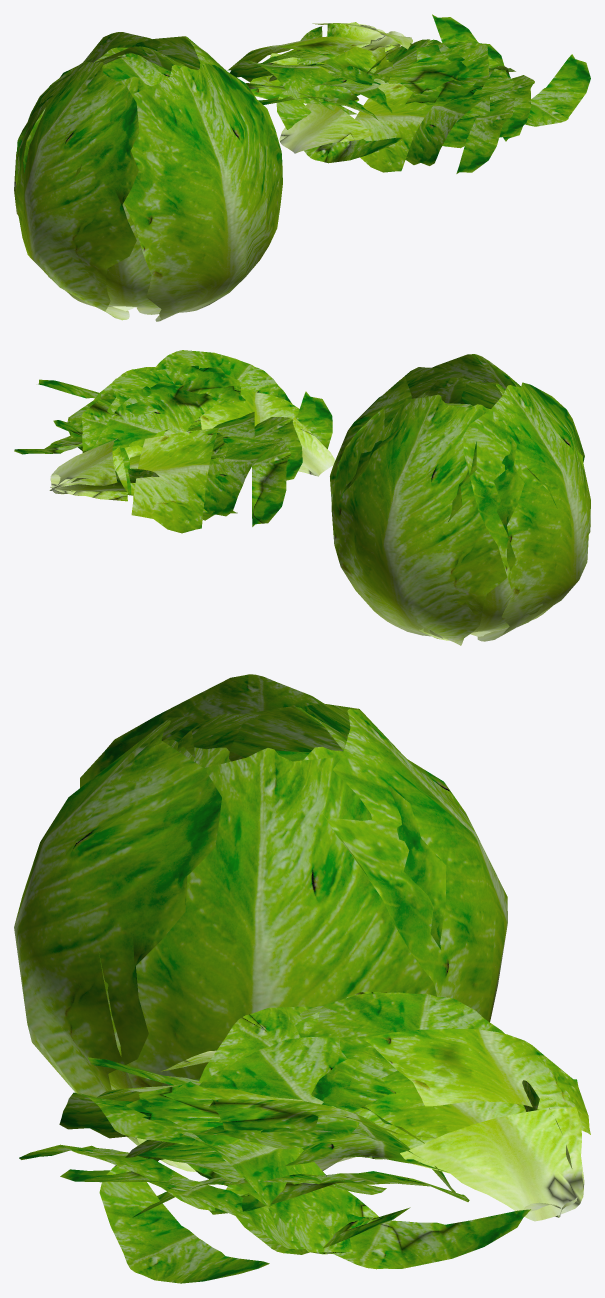
Rendered from lettuce_iceburg.fbx.
3 views of the same model, one above another, from view 1: azimuth 30°, elevation 25°; view 2: azimuth 150°, elevation 25°; view 3: azimuth 270°, elevation 25° (orthographic). The views are drawn at different scales.
Visible parts, largest first — view 1: Cube.003, Cube.002; view 2: Cube.003, Cube.002; view 3: Cube.003, Cube.002.
Boxes of the visible parts, x1,y1,x2,y2 form: Cube.003: [14, 32, 282, 321]; Cube.002: [227, 14, 590, 173]; Cube.003: [330, 354, 590, 645]; Cube.002: [14, 350, 334, 533]; Cube.003: [14, 674, 507, 1172]; Cube.002: [19, 991, 590, 1283].
Size of the model in its own units: 340 by 151 by 178.
1 material, 1 textured.
